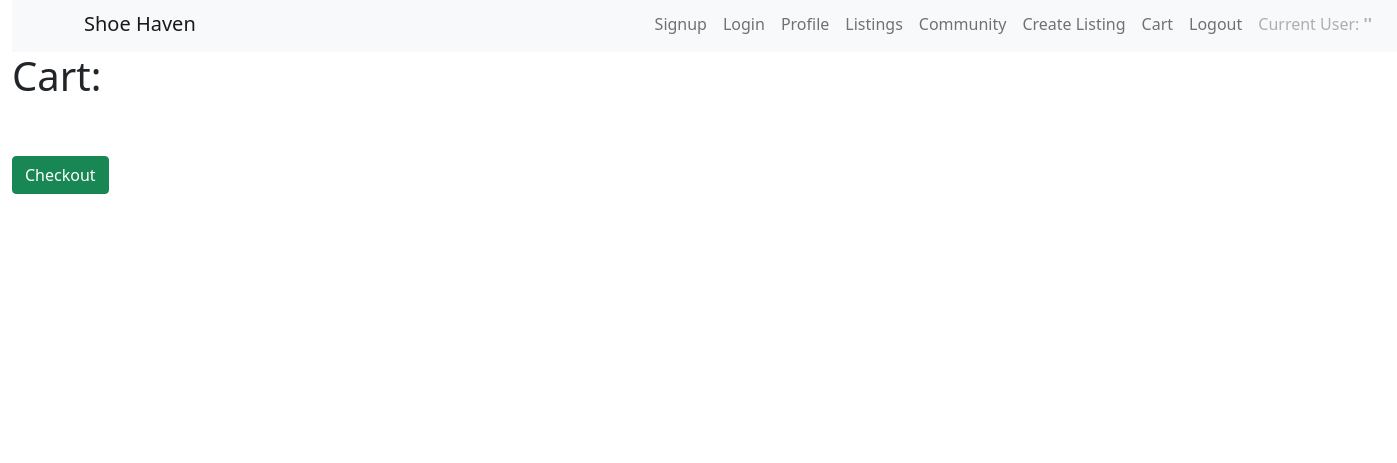
Test: goes to checkout form
The width and height of the screenshot is (1397, 463).
Click the button "Checkout".
click(60, 175)  # box [12,156,109,194]
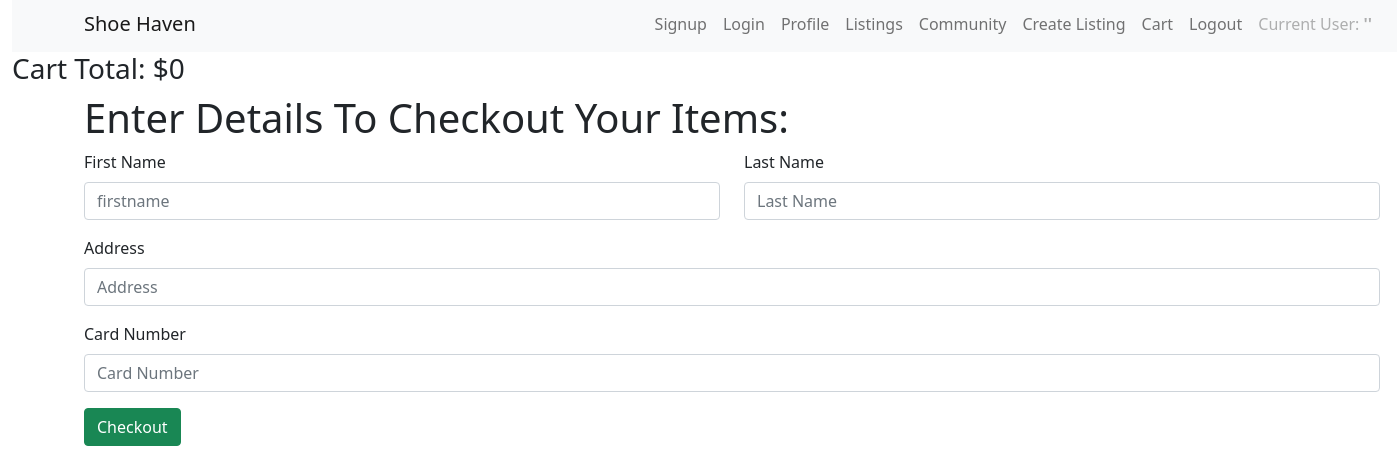
Now the heading "Enter Details To Checkout Your Items:" is shown, box [84,90,789,145]
